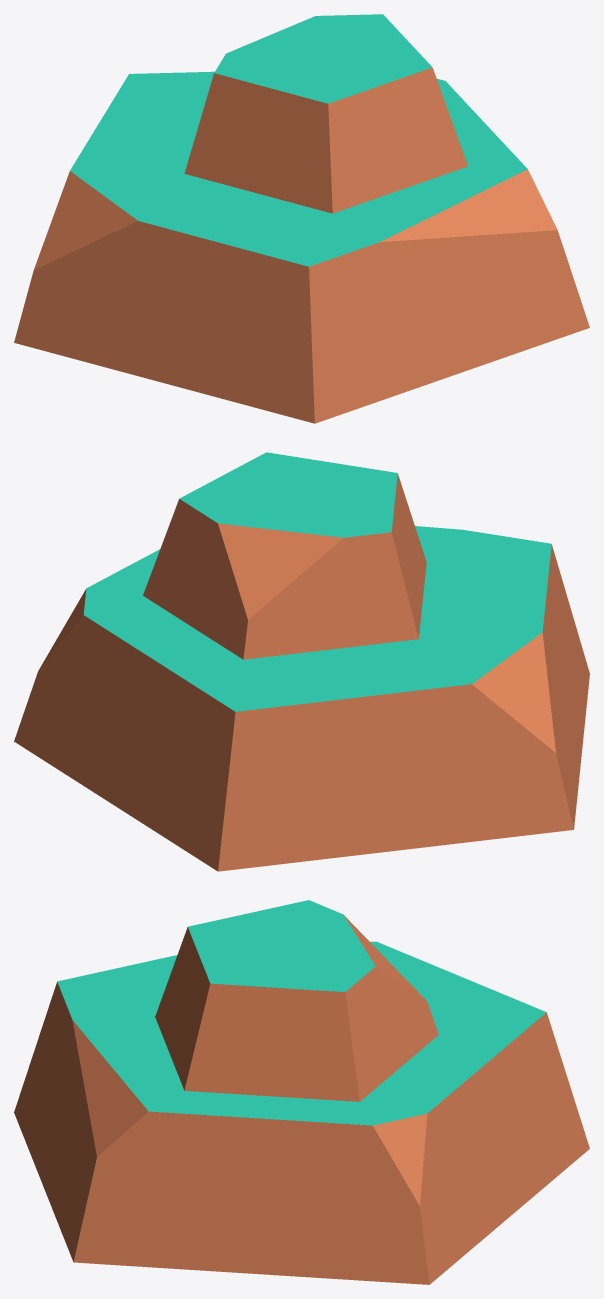
Rendered from rock_smallTopA.dae.
The picture shows the model from 3 angles, top to bottom: view 1: azimuth 30°, elevation 25°; view 2: azimuth 150°, elevation 25°; view 3: azimuth 270°, elevation 25°; orthographic projection. The views are drawn at different scales.
Visible parts, largest first — view 1: rock_smallTopA; view 2: rock_smallTopA; view 3: rock_smallTopA.
Part boxes in pixels (x1=…): rock_smallTopA: x1=14, y1=14, x2=589, y2=423; rock_smallTopA: x1=14, y1=452, x2=589, y2=871; rock_smallTopA: x1=14, y1=900, x2=589, y2=1284.
Bounding box in the file's own units: 0.4877 × 0.22 × 0.4891.
